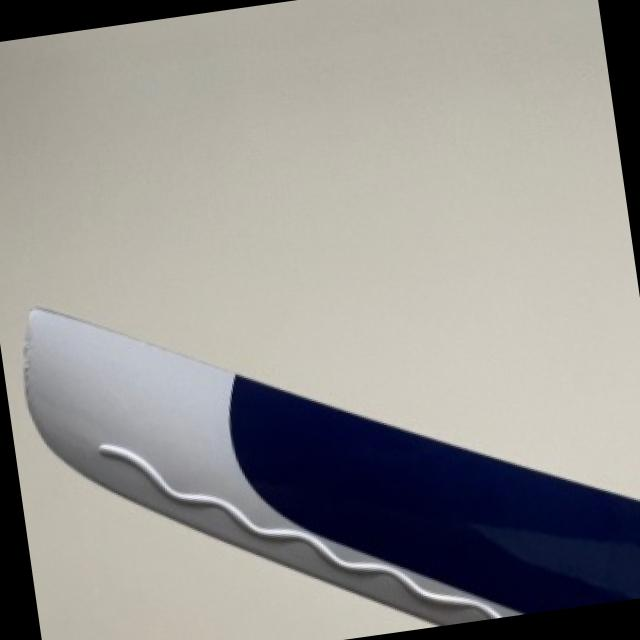healthy: (21, 306, 640, 624)
